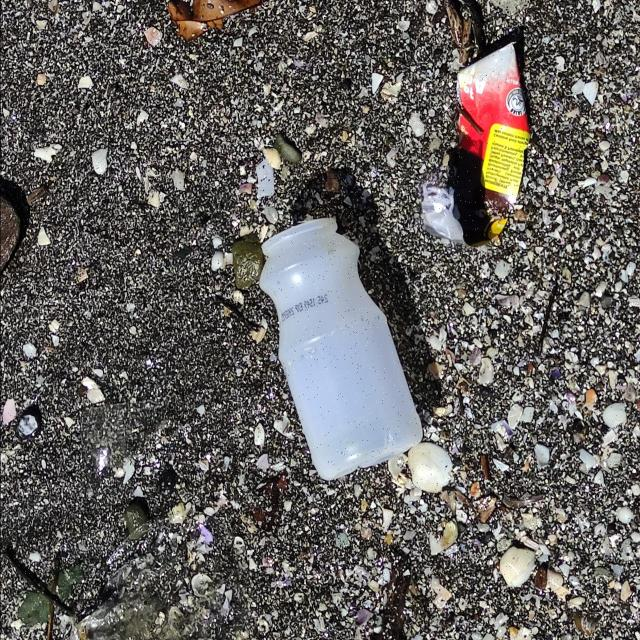plastic_waste: (259, 216, 425, 481), (423, 43, 527, 248)
